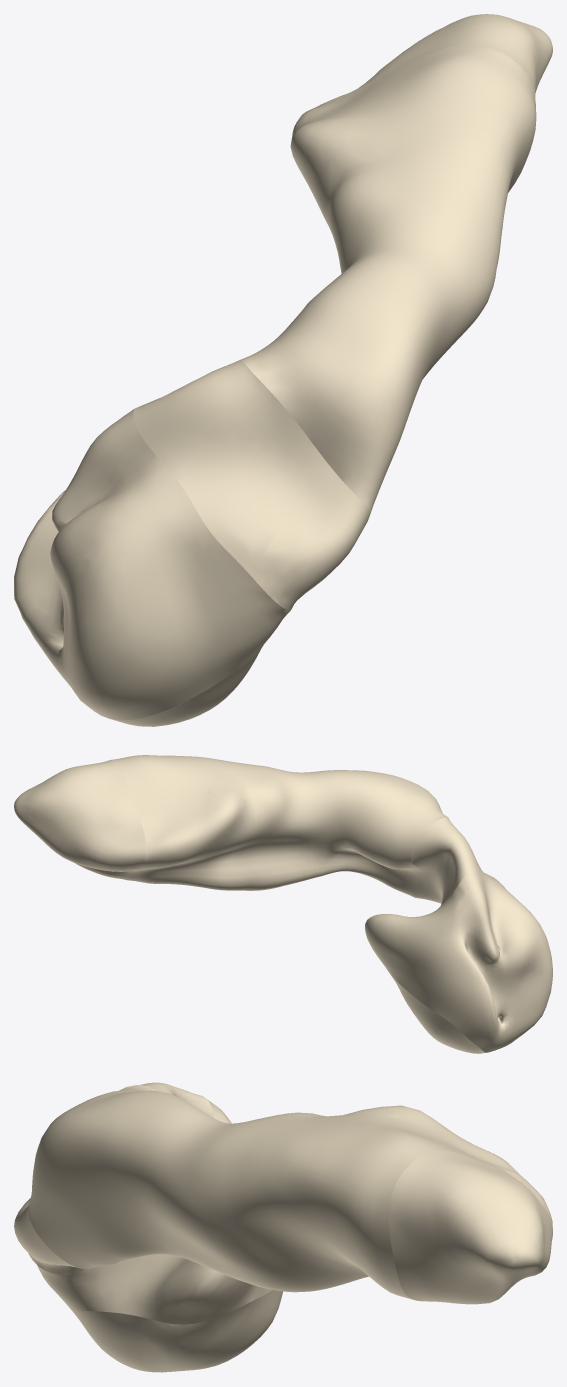
File: hra-pancreas-male-v1.glb
The picture shows the model from 3 angles, top to bottom: view 1: azimuth 30°, elevation 25°; view 2: azimuth 150°, elevation 25°; view 3: azimuth 270°, elevation 25°; orthographic projection. The views are drawn at different scales.
Parts seen in each view (by area): view 1: VH_M_body_of_pancreas, VH_M_head_of_pancreas, VH_M_neck_of_pancreas, VH_M_tail_of_pancreas, VH_M_uncinate_process_of_the_pancreas; view 2: VH_M_body_of_pancreas, VH_M_head_of_pancreas, VH_M_tail_of_pancreas, VH_M_neck_of_pancreas, VH_M_uncinate_process_of_the_pancreas; view 3: VH_M_body_of_pancreas, VH_M_tail_of_pancreas, VH_M_head_of_pancreas, VH_M_uncinate_process_of_the_pancreas, VH_M_neck_of_pancreas.
Boxes of the visible parts, <box> form: VH_M_body_of_pancreas: <box>241,46,536,516</box>; VH_M_head_of_pancreas: <box>14,409,290,720</box>; VH_M_neck_of_pancreas: <box>133,359,369,610</box>; VH_M_tail_of_pancreas: <box>334,14,552,98</box>; VH_M_uncinate_process_of_the_pancreas: <box>111,646,262,726</box>; VH_M_body_of_pancreas: <box>112,755,447,897</box>; VH_M_head_of_pancreas: <box>365,875,552,1052</box>; VH_M_tail_of_pancreas: <box>14,759,145,879</box>; VH_M_neck_of_pancreas: <box>411,817,502,905</box>; VH_M_uncinate_process_of_the_pancreas: <box>392,977,485,1053</box>; VH_M_body_of_pancreas: <box>28,1085,520,1299</box>; VH_M_tail_of_pancreas: <box>389,1151,552,1304</box>; VH_M_head_of_pancreas: <box>37,1096,271,1324</box>; VH_M_uncinate_process_of_the_pancreas: <box>70,1290,282,1372</box>; VH_M_neck_of_pancreas: <box>14,1082,213,1274</box>.
Bounding box in the file's own units: 0.1115 × 0.072 × 0.0836.
